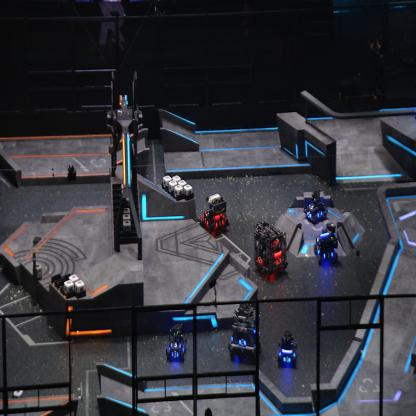car: (228, 299, 261, 360), (254, 221, 289, 277), (198, 192, 230, 236), (313, 222, 339, 265), (165, 322, 187, 362), (304, 188, 328, 224), (277, 329, 298, 368)
